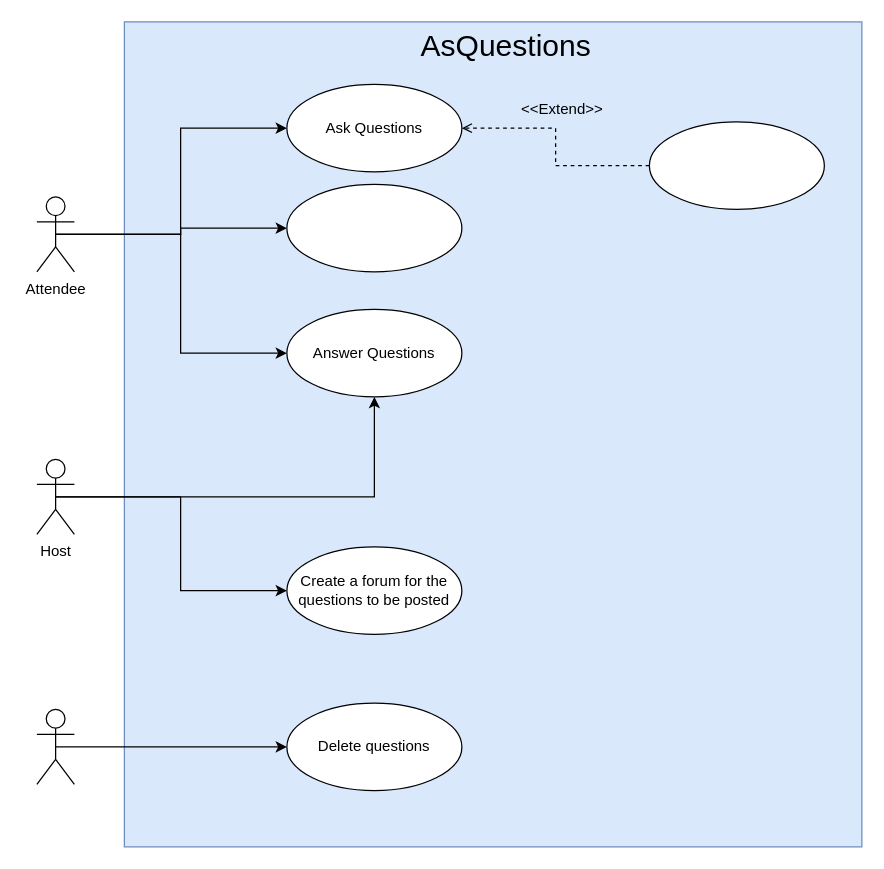
This 884x869 diagram has some shape labels left out. Each missing label, with the centre of its shape:
"Moderator" belongs at (55,746).
"Tag slide" belongs at (736,165).
"Upvote/Downvote questions" belongs at (374,227).
